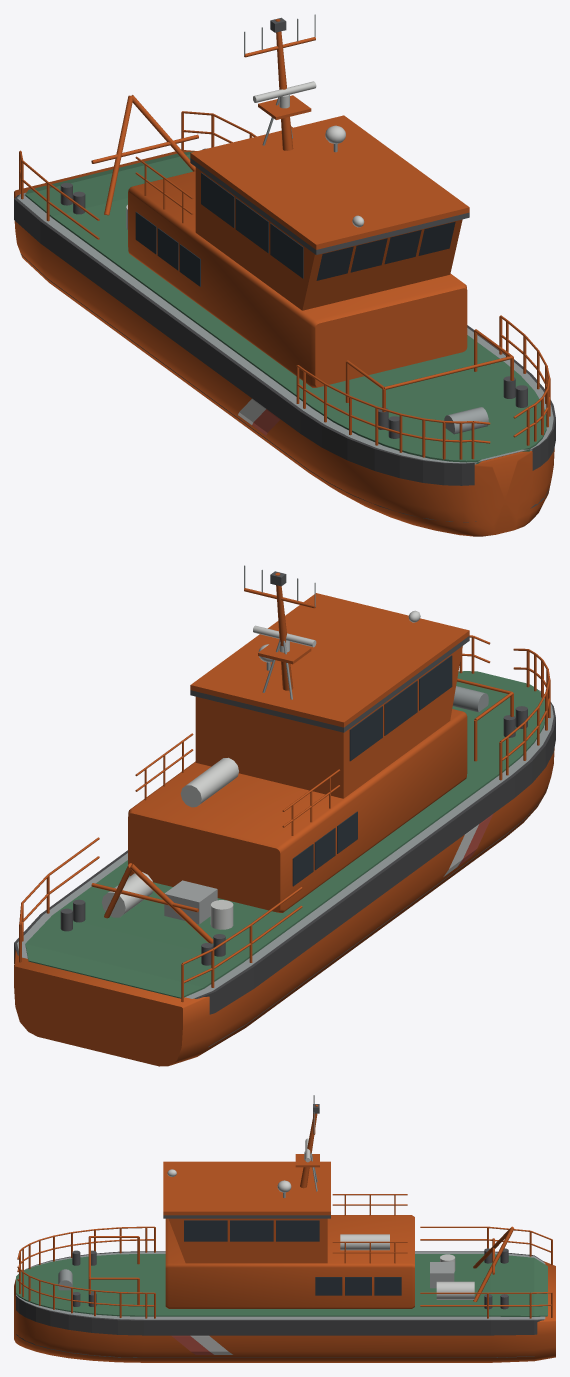
The model's file is vessel-pilot.glb.
3 renders of one model, top to bottom at view 1: azimuth 30°, elevation 25°; view 2: azimuth 150°, elevation 25°; view 3: azimuth 270°, elevation 25°, orthographic. The views are drawn at different scales.
Visible parts, largest first — view 1: vessel-pilot; view 2: vessel-pilot; view 3: vessel-pilot.
Boxes of the visible parts, x1,y1,x2,y2 form: vessel-pilot: [14, 14, 555, 536]; vessel-pilot: [14, 565, 555, 1066]; vessel-pilot: [14, 1095, 555, 1362].
Size of the model in its own units: 6.08 by 9.41 by 20.
